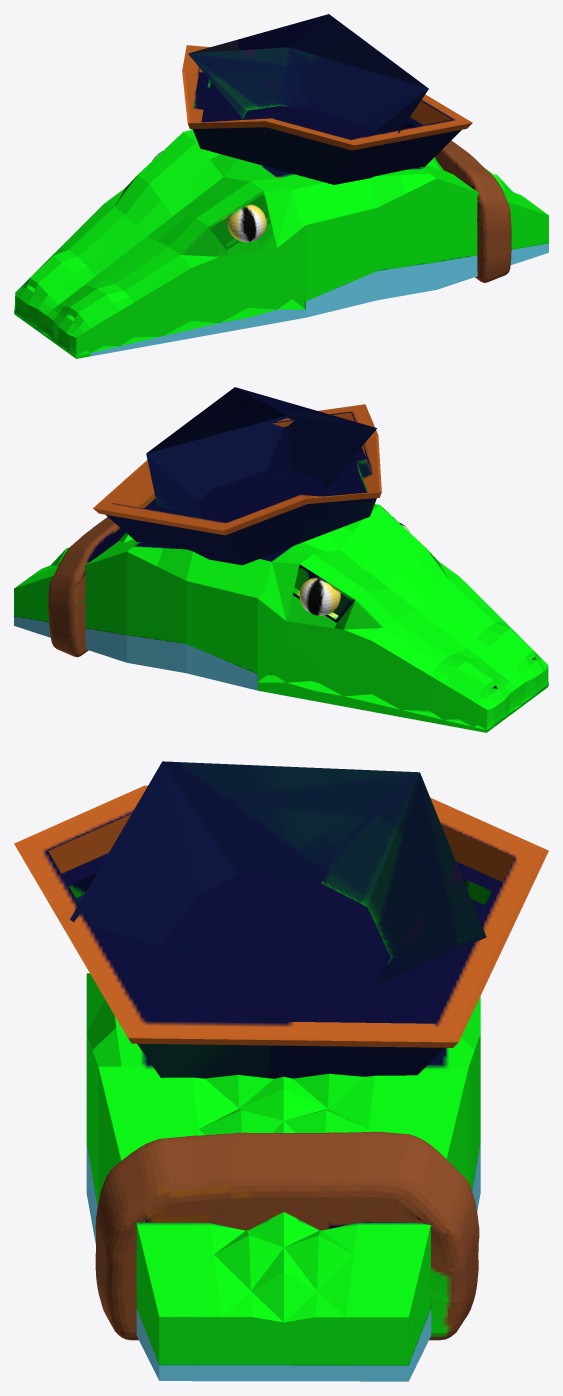
File: crocodile2.glb
The picture shows the model from 3 angles, top to bottom: view 1: azimuth 30°, elevation 25°; view 2: azimuth 150°, elevation 25°; view 3: azimuth 270°, elevation 25°; orthographic projection. The views are drawn at different scales.
Visible parts, largest first — view 1: Cube; view 2: Cube; view 3: Cube.
Boxes of the visible parts, left/top/right/bottom form: Cube: left=14, top=14, right=548, bottom=358; Cube: left=14, top=387, right=548, bottom=732; Cube: left=14, top=761, right=548, bottom=1381.
Bounding box in the file's own units: 5.49 × 2.89 × 3.13.
3 materials, 1 textured.
